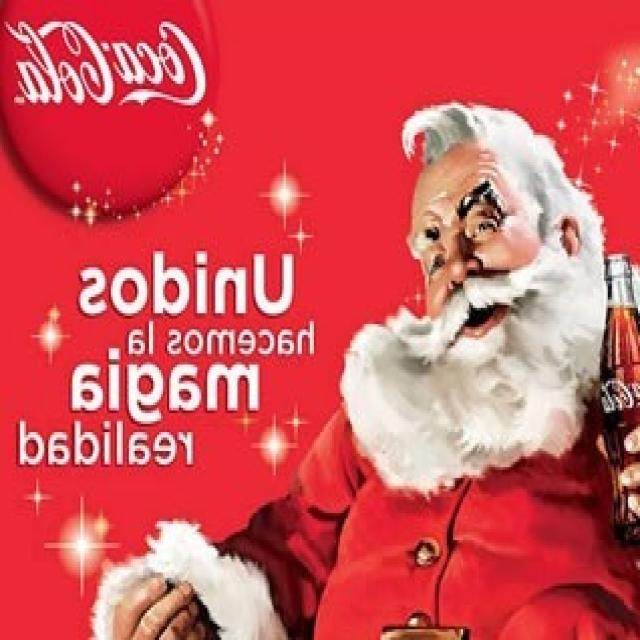coca cola: (0, 10, 210, 128), (596, 365, 640, 432)
